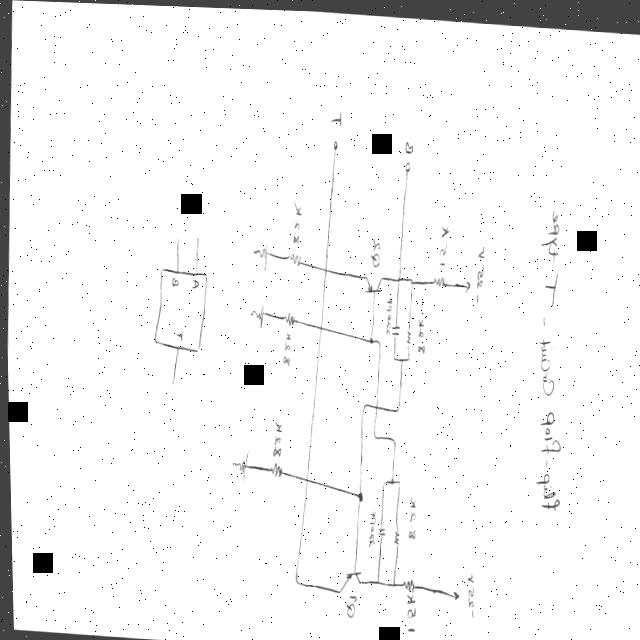capacitor: (387, 319, 398, 336), (373, 522, 382, 535)
crossover: (316, 320, 321, 330), (321, 261, 326, 271), (301, 473, 306, 481), (372, 400, 376, 408), (394, 272, 398, 280)
ground: (228, 446, 246, 481), (250, 237, 266, 271), (247, 298, 262, 327)
junction: (354, 487, 360, 500), (366, 333, 371, 342), (359, 400, 364, 408), (372, 574, 376, 583), (386, 473, 390, 482), (407, 275, 411, 284), (388, 577, 392, 585), (370, 429, 374, 437), (389, 434, 393, 442), (393, 401, 397, 409), (378, 477, 382, 484), (291, 575, 295, 582), (403, 353, 407, 359), (394, 475, 397, 482), (397, 354, 400, 361), (375, 336, 378, 342), (390, 353, 393, 358)
resistor: (267, 458, 280, 477), (285, 249, 300, 265), (280, 308, 293, 325), (398, 574, 411, 590), (429, 271, 443, 285), (390, 522, 397, 546), (403, 323, 409, 344)
source: (461, 274, 469, 291), (449, 585, 456, 598)
terminal: (172, 232, 180, 242), (402, 158, 409, 169), (193, 231, 199, 242), (166, 378, 173, 387), (331, 137, 336, 148)
text: (530, 202, 563, 508), (472, 241, 483, 302), (435, 219, 448, 265), (461, 566, 472, 616), (401, 590, 413, 630), (290, 197, 300, 244), (268, 417, 280, 456), (404, 492, 413, 537), (367, 233, 379, 266), (341, 589, 354, 618), (364, 506, 373, 546), (279, 329, 289, 365), (414, 313, 423, 352), (382, 292, 390, 334), (329, 107, 341, 124), (402, 136, 412, 152), (188, 275, 198, 291), (172, 326, 181, 341), (168, 275, 177, 288)
transistor: (335, 565, 358, 591), (361, 270, 380, 292)
